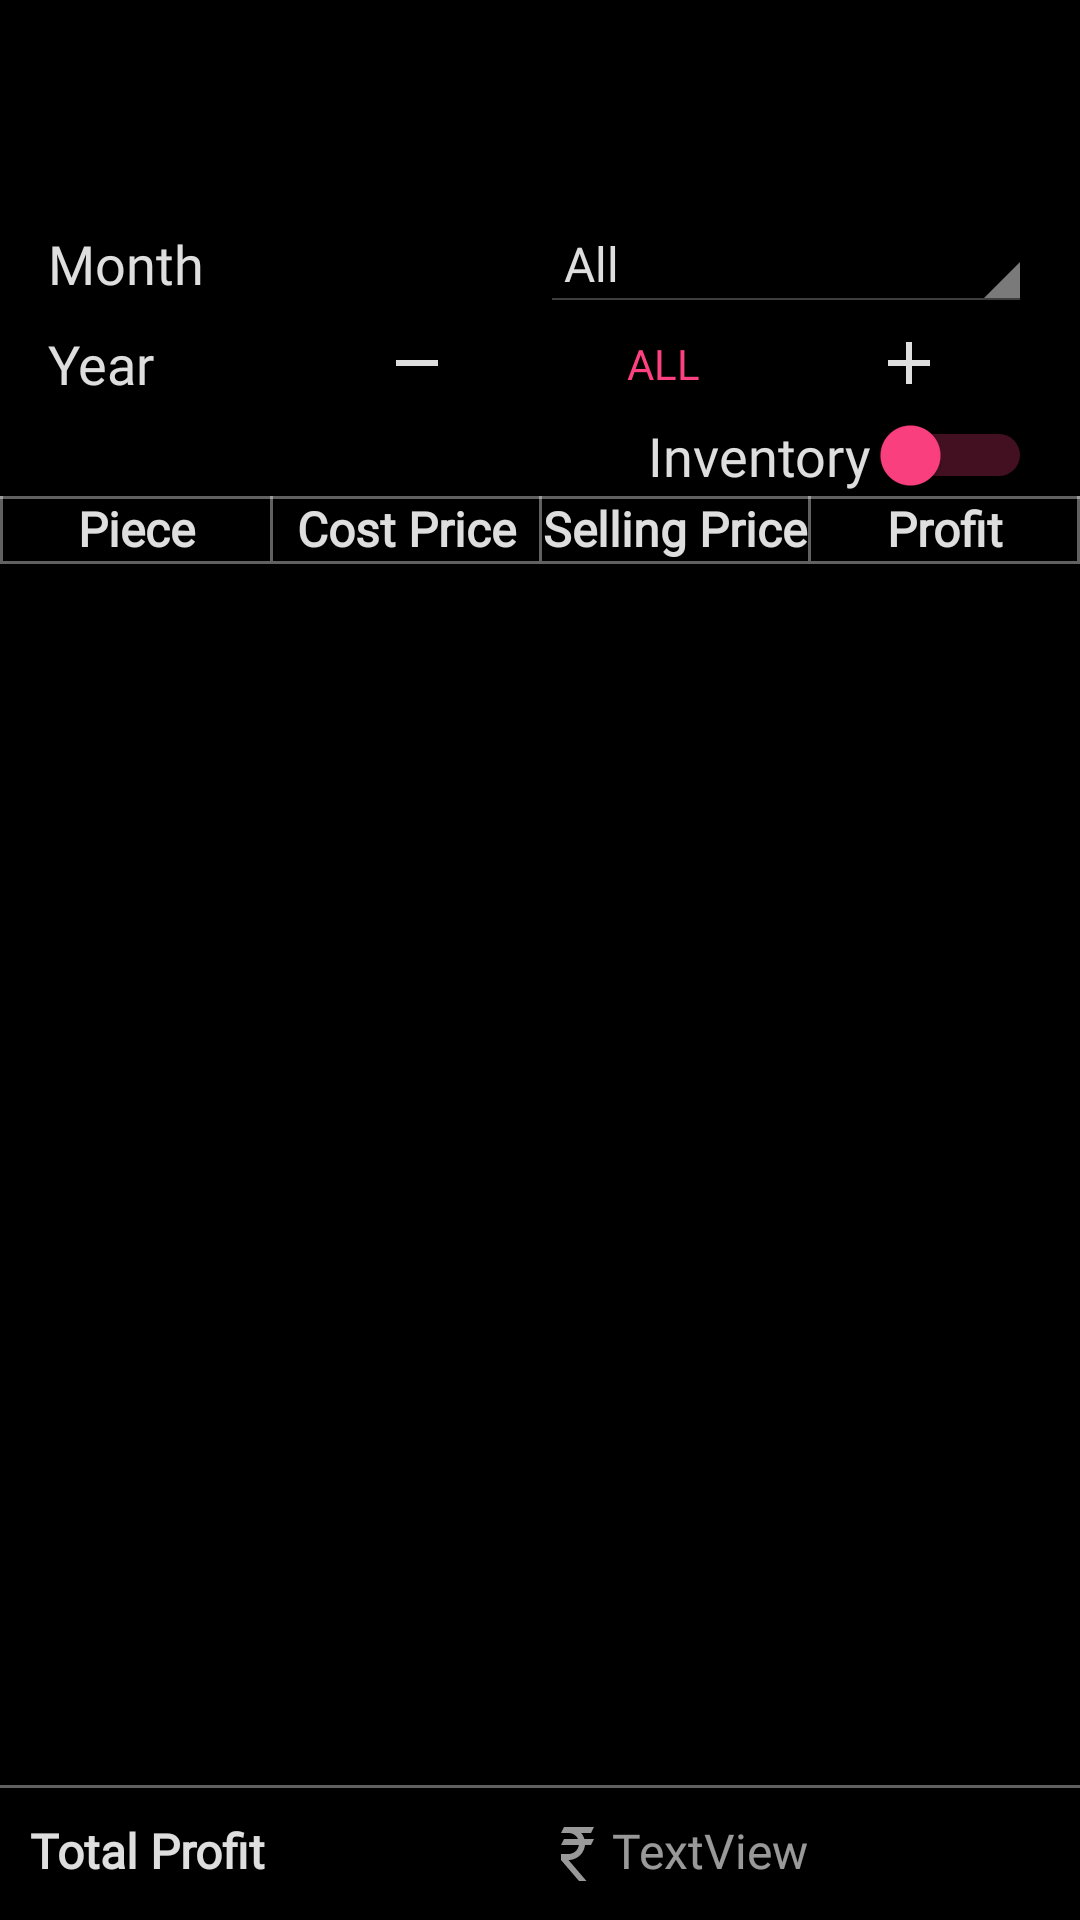

Icons on this 1080×1920 Android screen, each with its box as (x1,y1,x2,y2):
add: (888,342,930,384)
